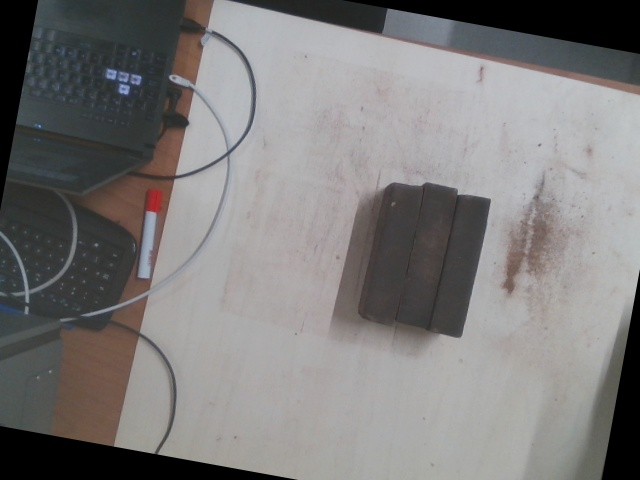brick-side: (397, 182, 459, 327), (364, 182, 425, 326), (432, 194, 491, 337)
